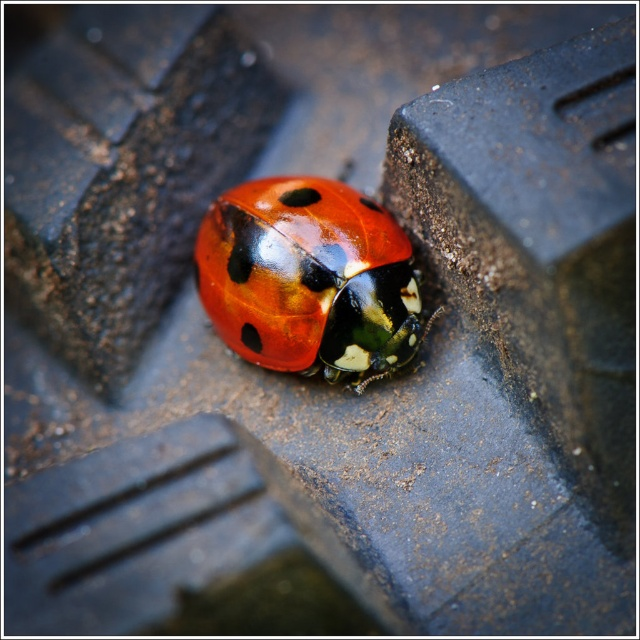Ladybug: (188, 173, 449, 400)
